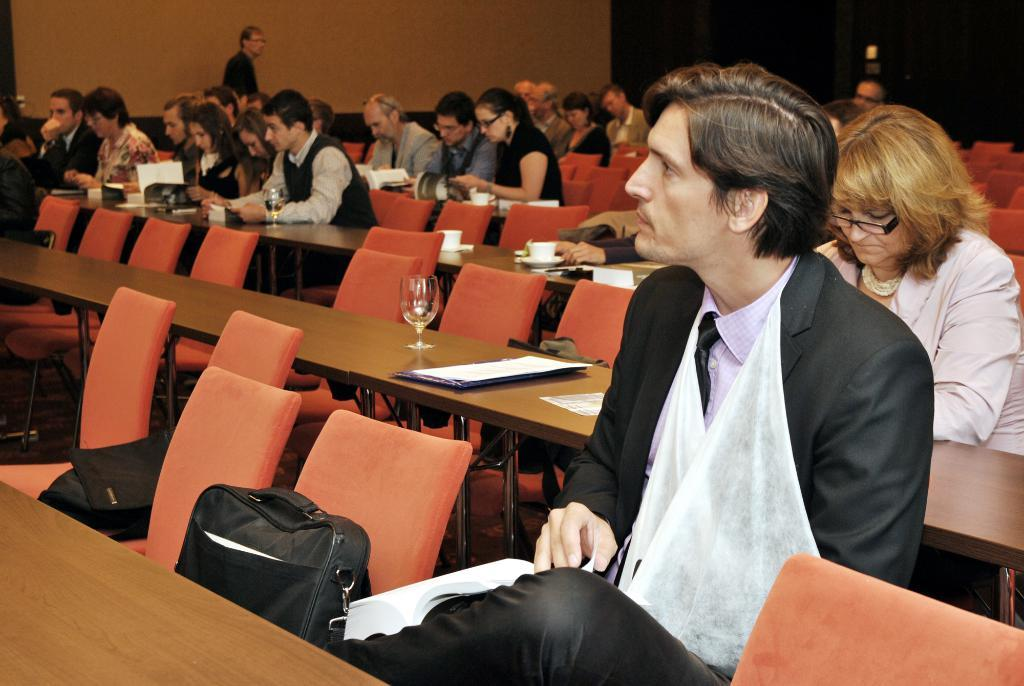Luggage-and-bags: (180, 477, 377, 651), (38, 435, 174, 537)
